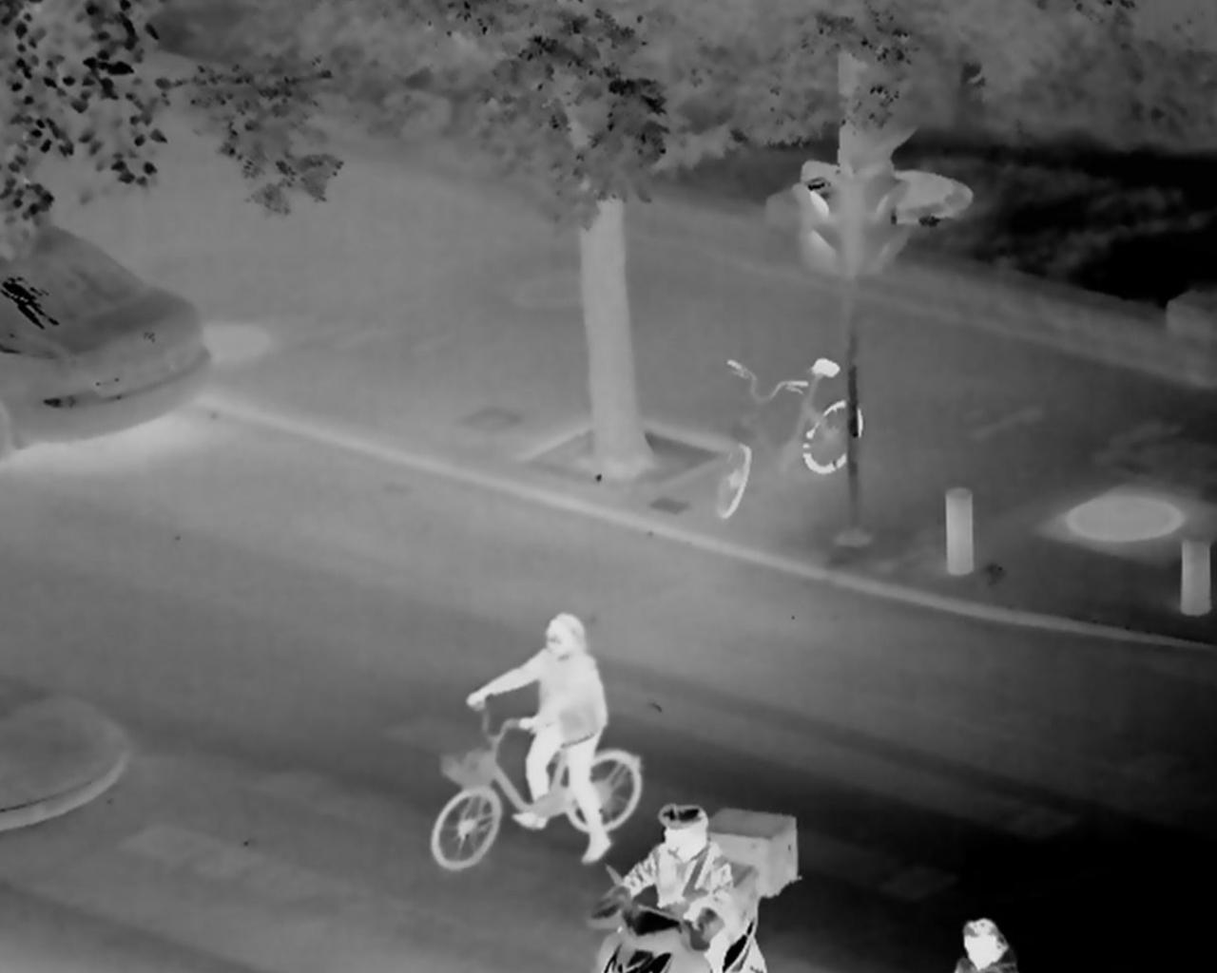person: (466, 614, 618, 863), (608, 803, 746, 973), (951, 915, 1013, 973)
